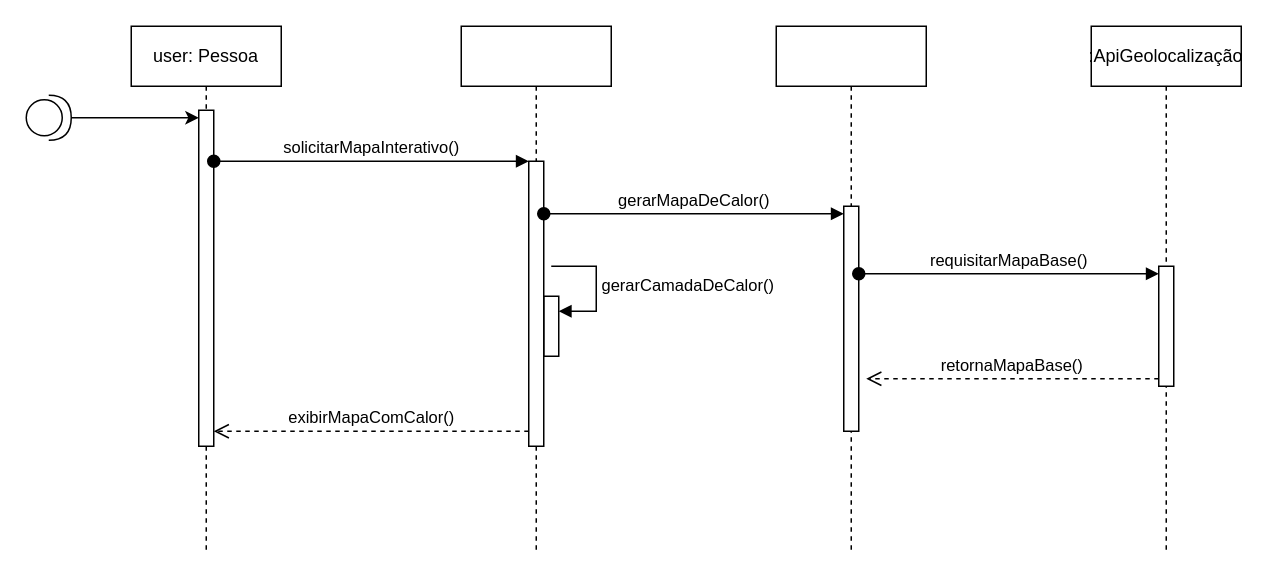
The diagram is 1269 pixels wide and 578 high, and some of its shapes have lost their labels. The box of each missing label's shape, as (x1, y1, x2, y2) in pixels:
:MapaInterativo: (460, 25, 611, 551)
MapaDeCalor: (775, 25, 926, 551)
